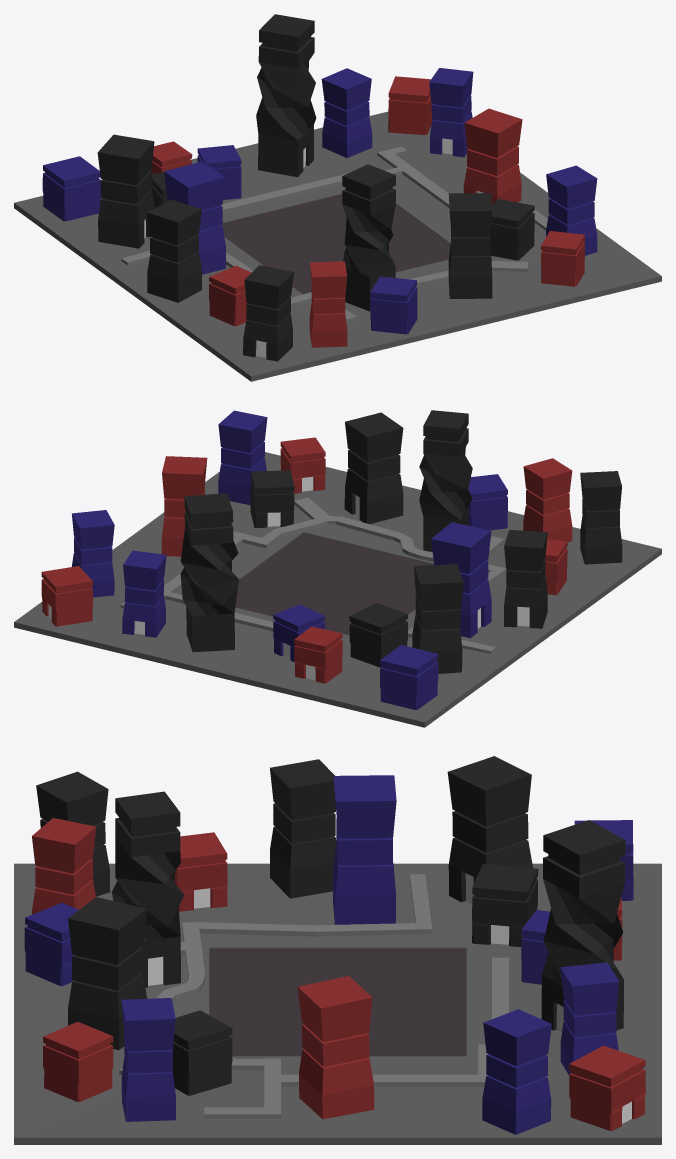
Rendered from Map2.fbx.
The picture shows the model from 3 angles, top to bottom: view 1: azimuth 30°, elevation 25°; view 2: azimuth 150°, elevation 25°; view 3: azimuth 270°, elevation 25°; orthographic projection. The views are drawn at different scales.
Visible parts, largest first — view 1: Cube.001, Cube, Cube.005, Cube.009, Cube.014, Cube.024, Cube.019, Cube.002, Cube.022, Cube.003, Cube.016, Cube.015 (+11 smaller); view 2: Cube.001, Cube, Cube.005, Cube.002, Cube.009, Cube.014, Cube.003, Cube.015, Cube.024, Cube.022, Cube.020, Cube.023 (+12 smaller); view 3: Cube.001, Cube, Cube.005, Cube.003, Cube.009, Cube.019, Cube.014, Cube.015, Cube.002, Cube.024, Cube.017, Cube.020 (+11 smaller).
Part boxes in pixels (<box>): Cube.001: <box>14,111,661,381</box>; Cube: <box>221,194,450,294</box>; Cube.005: <box>256,14,316,177</box>; Cube.009: <box>342,164,395,311</box>; Cube.014: <box>97,134,154,248</box>; Cube.024: <box>147,199,201,302</box>; Cube.019: <box>463,108,522,204</box>; Cube.002: <box>448,193,492,298</box>; Cube.022: <box>243,265,293,361</box>; Cube.003: <box>121,146,547,322</box>; Cube.016: <box>321,68,372,157</box>; Cube.015: <box>164,161,225,274</box>; Cube.001: <box>14,452,661,727</box>; Cube: <box>235,533,433,635</box>; Cube.005: <box>180,493,239,652</box>; Cube.002: <box>344,412,403,524</box>; Cube.009: <box>419,410,472,551</box>; Cube.014: <box>412,564,463,673</box>; Cube.003: <box>120,497,506,653</box>; Cube.015: <box>431,522,491,638</box>; Cube.024: <box>503,530,547,628</box>; Cube.022: <box>580,471,622,564</box>; Cube.020: <box>218,410,267,505</box>; Cube.023: <box>523,458,572,542</box>; Cube.001: <box>14,863,661,1144</box>; Cube: <box>209,948,466,1056</box>; Cube.005: <box>541,820,625,1032</box>; Cube.003: <box>119,874,547,1118</box>; Cube.009: <box>111,791,184,987</box>; Cube.019: <box>297,976,374,1119</box>; Cube.014: <box>447,756,532,903</box>; Cube.015: <box>333,775,396,924</box>; Cube.002: <box>68,897,146,1050</box>; Cube.024: <box>270,759,336,898</box>; Cube.017: <box>482,1009,551,1134</box>; Cube.020: <box>121,998,175,1121</box>.
Bounding box in the file's own units: 75.63 × 25.43 × 75.63.
